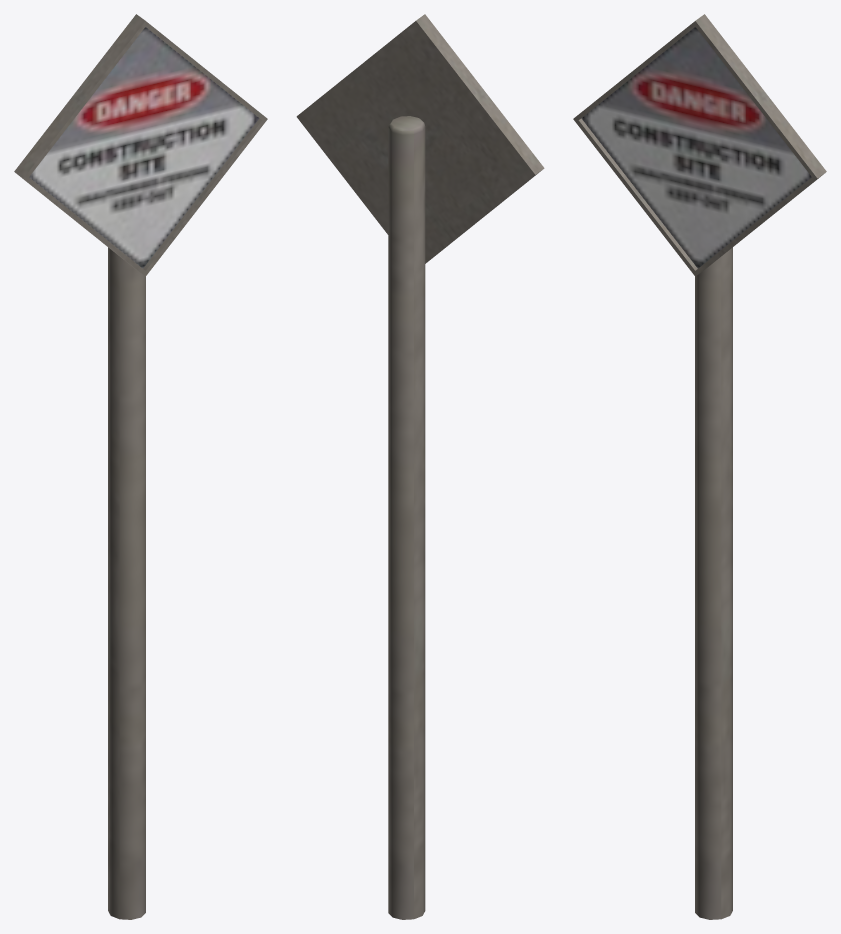
Rendered from panneau_chantier.glb.
3 views of the same model, side by side, from view 1: azimuth 30°, elevation 25°; view 2: azimuth 150°, elevation 25°; view 3: azimuth 330°, elevation 25° (orthographic). The views are drawn at different scales.
Parts seen in each view (by area): view 1: Construction_Site_Sign; view 2: Construction_Site_Sign; view 3: Construction_Site_Sign.
Part boxes in pixels (left/top/right/bottom): Construction_Site_Sign: left=14, top=14, right=267, bottom=919; Construction_Site_Sign: left=296, top=14, right=544, bottom=919; Construction_Site_Sign: left=573, top=14, right=826, bottom=919.
Size of the model in its own units: 0.4525 by 1.6 by 0.09.
Materials: 2 (2 with a texture image).
